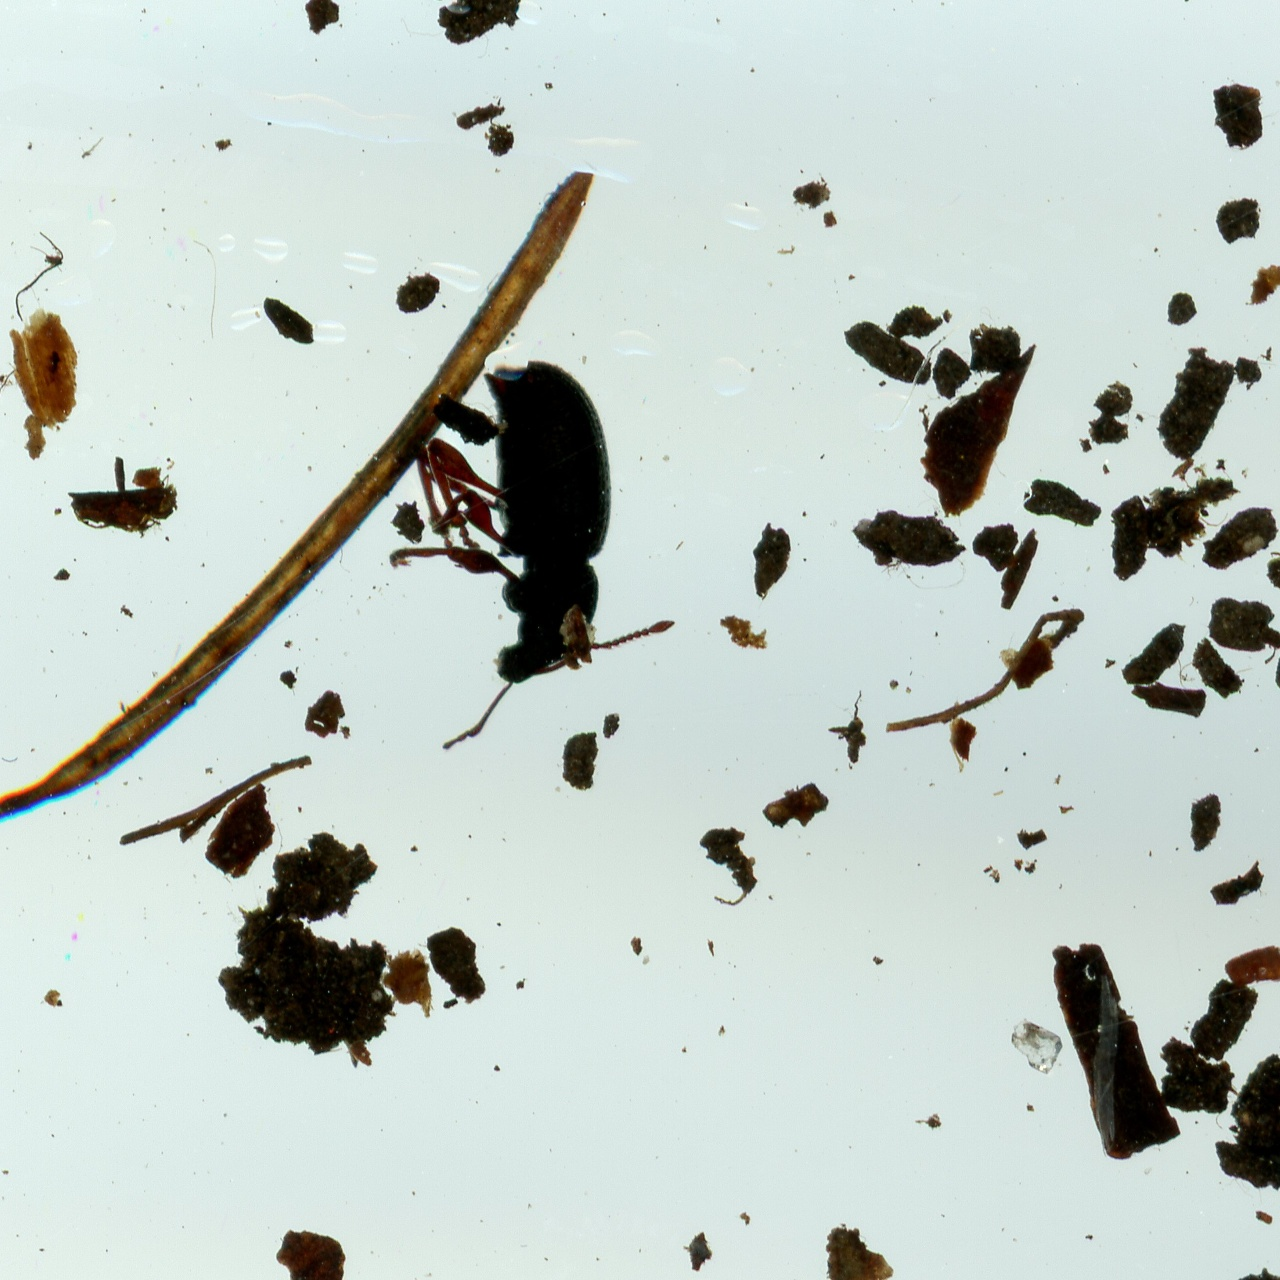arthropod: (339, 327, 697, 760)
